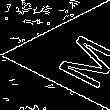M_NW: (35, 23, 110, 87)
